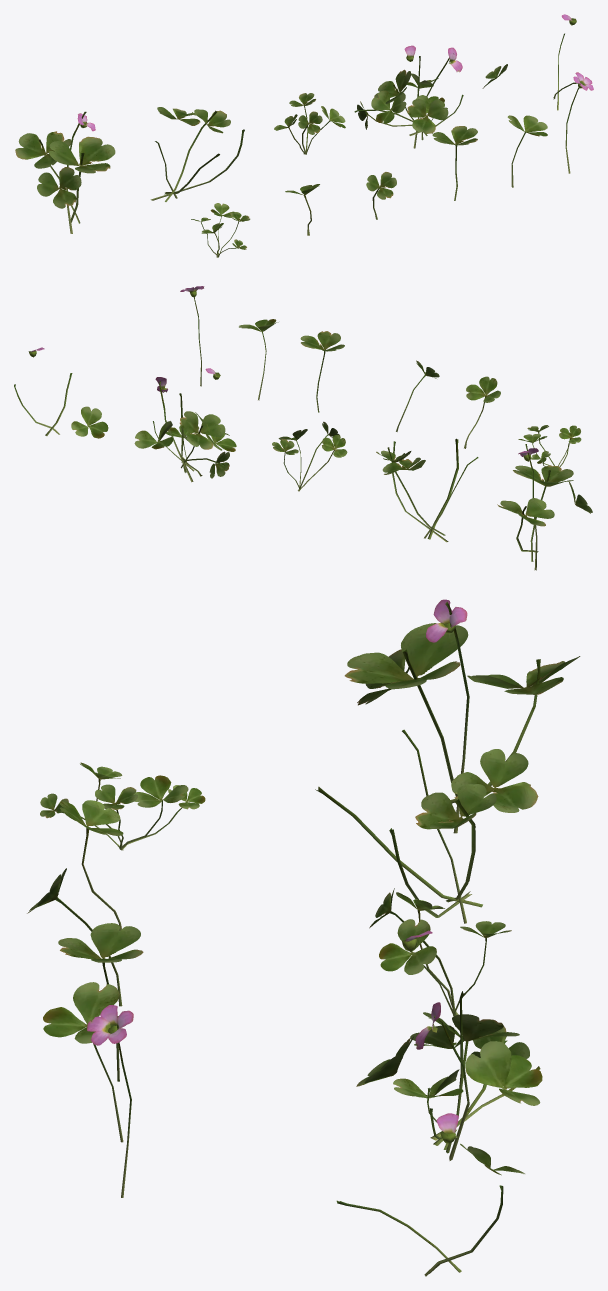
Rendered from shrub_sorrel_01.glb.
3 renders of one model, top to bottom at view 1: azimuth 30°, elevation 25°; view 2: azimuth 150°, elevation 25°; view 3: azimuth 270°, elevation 25°, orthographic. The views are drawn at different scales.
Visible parts, largest first — view 1: shrub_sorrel_01_a, shrub_sorrel_01_d, shrub_sorrel_01_b, shrub_sorrel_01_c, shrub_sorrel_01_f, shrub_sorrel_01_i, shrub_sorrel_01_h, shrub_sorrel_01_j, shrub_sorrel_01_e, shrub_sorrel_01_k; view 2: shrub_sorrel_01_d, shrub_sorrel_01_a, shrub_sorrel_01_b, shrub_sorrel_01_c, shrub_sorrel_01_e, shrub_sorrel_01_f, shrub_sorrel_01_i, shrub_sorrel_01_g, shrub_sorrel_01_j; view 3: shrub_sorrel_01_d, shrub_sorrel_01_a, shrub_sorrel_01_b, shrub_sorrel_01_c, shrub_sorrel_01_f, shrub_sorrel_01_j, shrub_sorrel_01_i, shrub_sorrel_01_e, shrub_sorrel_01_k, shrub_sorrel_01_g.
Boxes of the visible parts, x1,y1,x2,y2 form: shrub_sorrel_01_a: [15, 111, 115, 233]; shrub_sorrel_01_d: [354, 45, 463, 148]; shrub_sorrel_01_b: [150, 107, 244, 201]; shrub_sorrel_01_c: [274, 93, 345, 154]; shrub_sorrel_01_f: [191, 203, 250, 257]; shrub_sorrel_01_i: [432, 126, 477, 200]; shrub_sorrel_01_h: [366, 172, 396, 219]; shrub_sorrel_01_j: [507, 115, 547, 187]; shrub_sorrel_01_e: [482, 14, 578, 110]; shrub_sorrel_01_k: [565, 72, 593, 173]; shrub_sorrel_01_d: [134, 368, 236, 482]; shrub_sorrel_01_a: [497, 444, 592, 570]; shrub_sorrel_01_b: [376, 438, 478, 542]; shrub_sorrel_01_c: [272, 421, 347, 491]; shrub_sorrel_01_e: [14, 347, 108, 438]; shrub_sorrel_01_f: [518, 425, 581, 466]; shrub_sorrel_01_i: [300, 331, 344, 412]; shrub_sorrel_01_g: [464, 376, 500, 448]; shrub_sorrel_01_j: [239, 319, 278, 400]; shrub_sorrel_01_d: [356, 930, 542, 1160]; shrub_sorrel_01_a: [344, 599, 580, 833]; shrub_sorrel_01_b: [315, 729, 538, 923]; shrub_sorrel_01_c: [369, 888, 511, 1016]; shrub_sorrel_01_f: [40, 762, 205, 850]; shrub_sorrel_01_j: [43, 982, 123, 1142]; shrub_sorrel_01_i: [58, 923, 143, 1081]; shrub_sorrel_01_e: [336, 1113, 524, 1276]; shrub_sorrel_01_k: [87, 1005, 133, 1197]; shrub_sorrel_01_g: [59, 800, 123, 930].
Bounding box in the file's own units: 0.3436 × 0.0722 × 0.151.
1 material, 1 textured.
